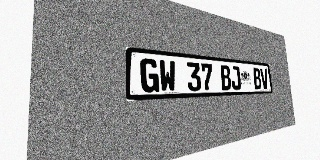3: (186, 62, 201, 91)
7: (200, 63, 214, 91)
B: (220, 65, 232, 90), (252, 68, 262, 89)
G: (140, 58, 159, 93)
J: (230, 66, 241, 90)
V: (260, 68, 269, 89)
W: (159, 59, 176, 92)
